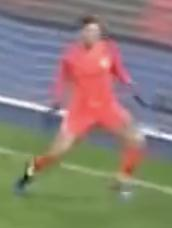goalkeeper: (1, 12, 167, 205)
